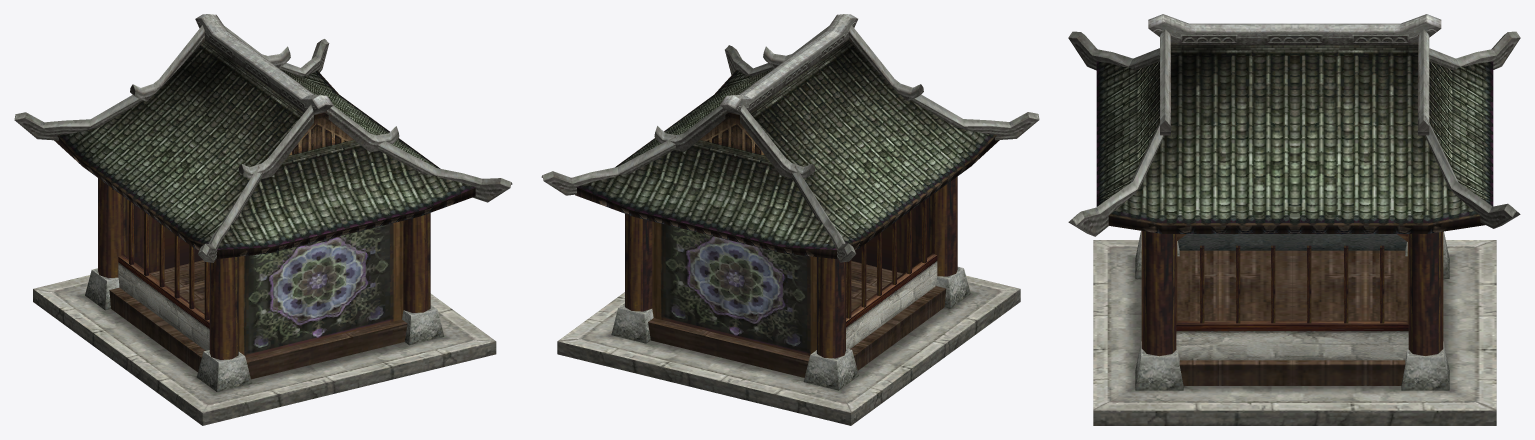
File: ob-004-hause2.fbx
3 renders of one model, left to right at view 1: azimuth 30°, elevation 25°; view 2: azimuth 150°, elevation 25°; view 3: azimuth 270°, elevation 25°, orthographic. The views are drawn at different scales.
Parts seen in each view (by area): view 1: ob-004-hause2; view 2: ob-004-hause2; view 3: ob-004-hause2.
Boxes of the visible parts, left/top/right/bottom form: ob-004-hause2: left=14, top=14, right=512, bottom=425; ob-004-hause2: left=541, top=14, right=1039, bottom=425; ob-004-hause2: left=1068, top=14, right=1520, bottom=425.
Size of the model in its own units: 4.01 by 3.33 by 4.19.
